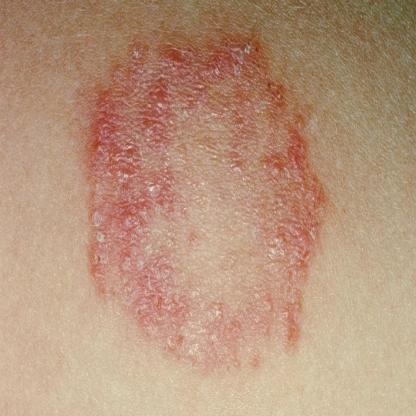Healthy skin: (336, 32, 412, 399)
Ringworm: (78, 29, 329, 372)
